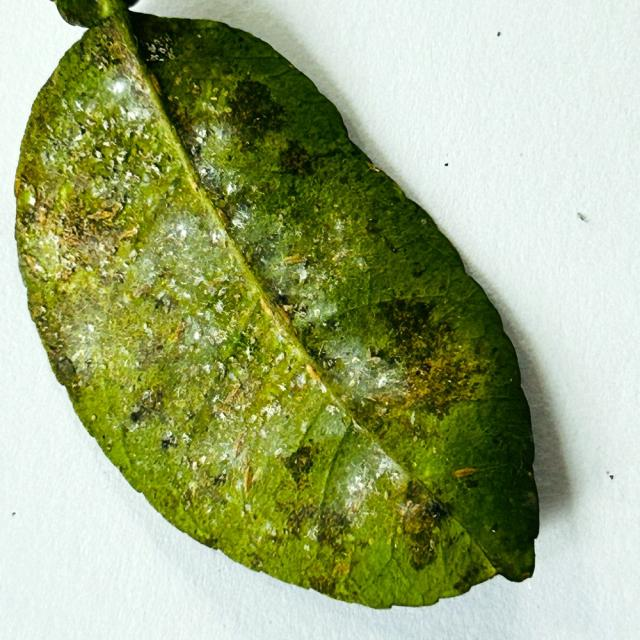Bacterial_Blight: (360, 298, 490, 416), (372, 297, 444, 358), (205, 322, 271, 387), (401, 488, 450, 566), (226, 77, 285, 139), (62, 218, 119, 272), (22, 222, 67, 283), (218, 369, 263, 420), (132, 327, 174, 375), (193, 154, 230, 204), (274, 451, 329, 484), (313, 505, 353, 544), (130, 388, 168, 427), (90, 136, 129, 171), (278, 139, 316, 173), (83, 197, 122, 228), (286, 503, 320, 538), (194, 476, 226, 506), (145, 34, 176, 61), (61, 227, 89, 252), (54, 354, 77, 384), (421, 497, 448, 522), (153, 292, 178, 316), (380, 233, 405, 254), (274, 291, 295, 311), (275, 303, 292, 326), (57, 181, 73, 205), (19, 186, 33, 209), (160, 433, 178, 450), (149, 72, 162, 95), (173, 321, 187, 342), (133, 284, 152, 299), (216, 207, 230, 227), (332, 562, 351, 576), (93, 53, 109, 68), (212, 472, 227, 487), (411, 265, 428, 278), (190, 143, 202, 158), (130, 410, 142, 423), (152, 161, 164, 174), (77, 123, 86, 136), (489, 522, 499, 533), (94, 148, 103, 158), (314, 205, 320, 213)
Lemon: (13, 0, 541, 612)
